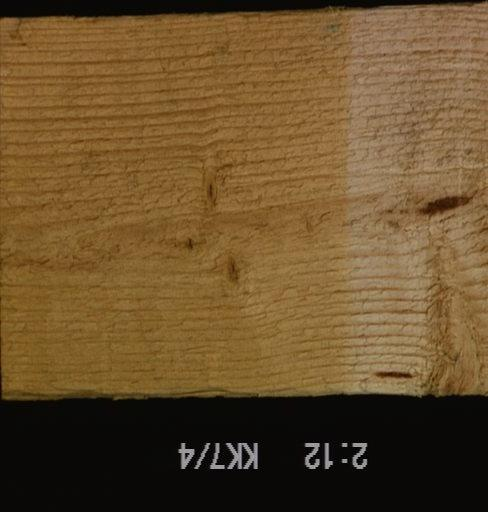sound_knot: (195, 162, 228, 218), (216, 248, 247, 294)
